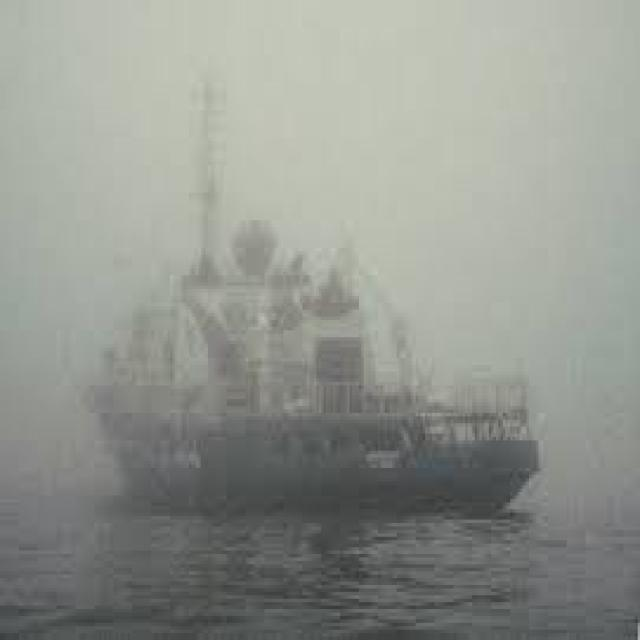fishing boat: (75, 191, 547, 516)
